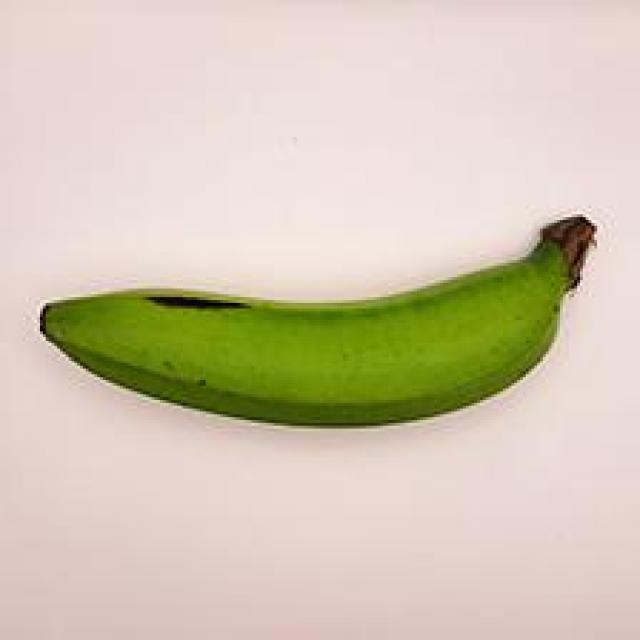Raw: (16, 199, 620, 441)
